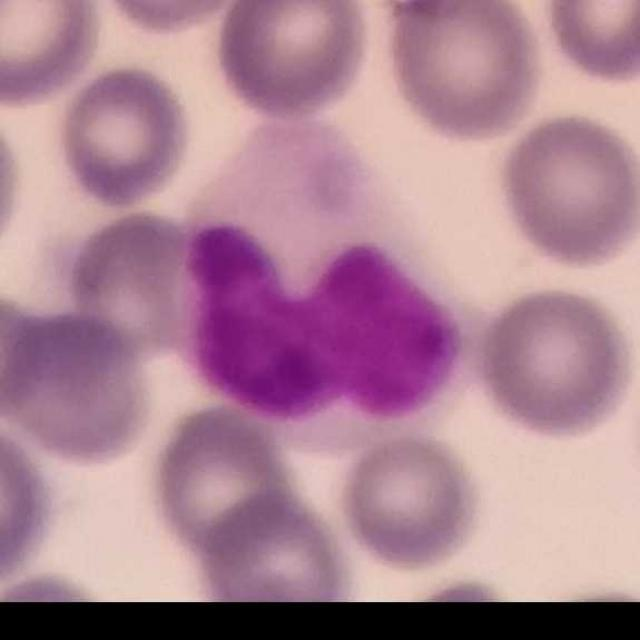mono: (172, 107, 497, 463)
